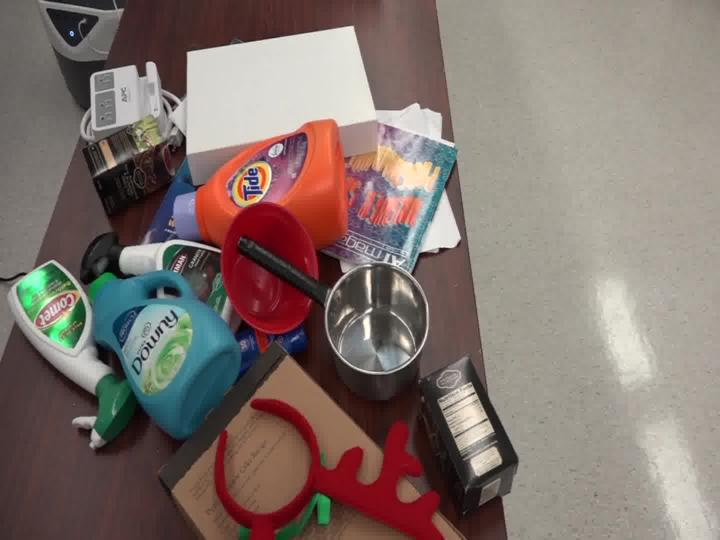downy: (56, 232, 261, 450)
